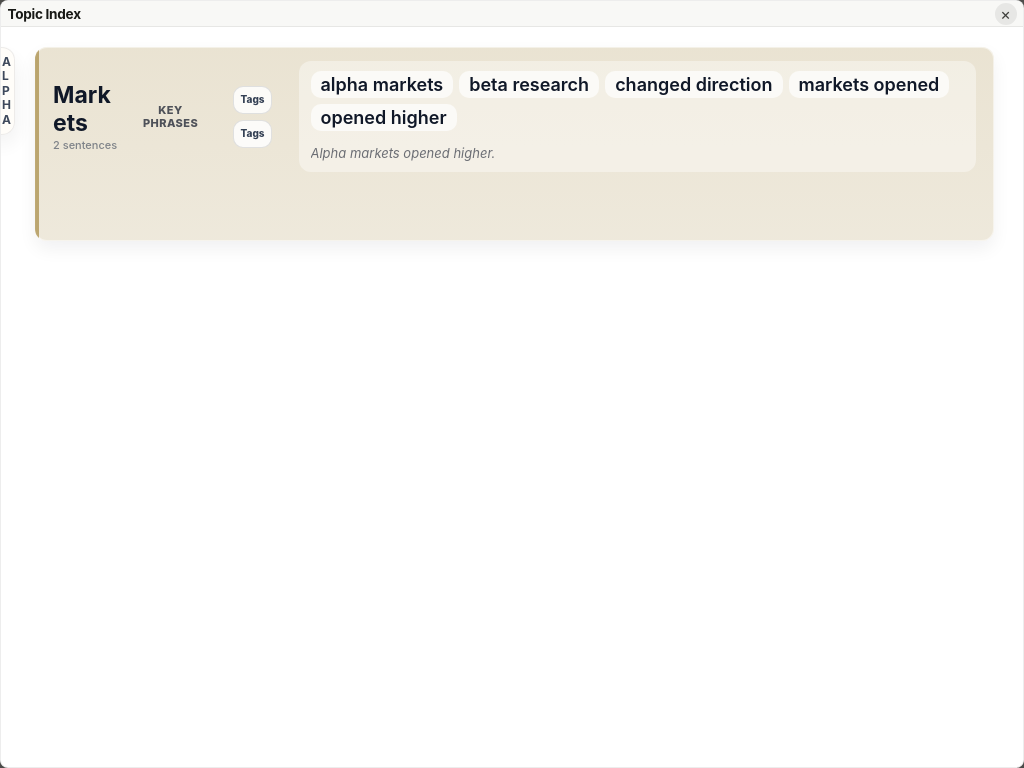
Test: TopicIndexView › advances metadata when the content block is clicked
Expected: the text "Key Phrases" is shown, [143,103,198,130]
Click the element with class "topic-index-view__tile-meta-content" at (637,117), box [298,61,976,172]
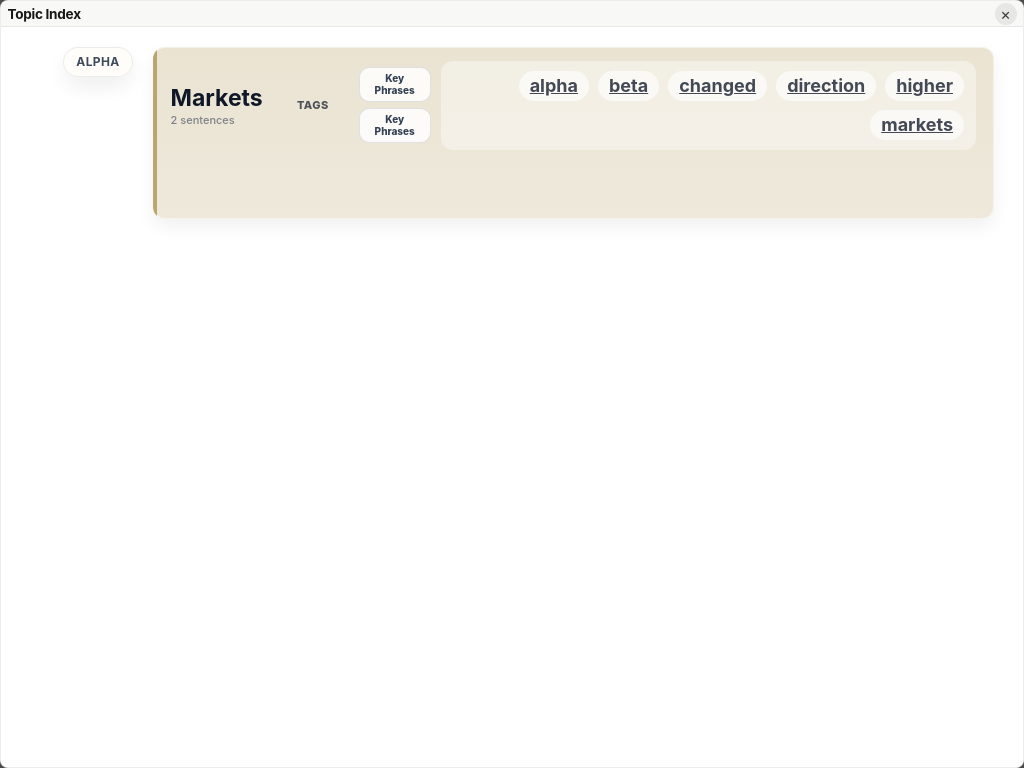
Expected: the text "Tags" is shown, [297,98,329,112]
